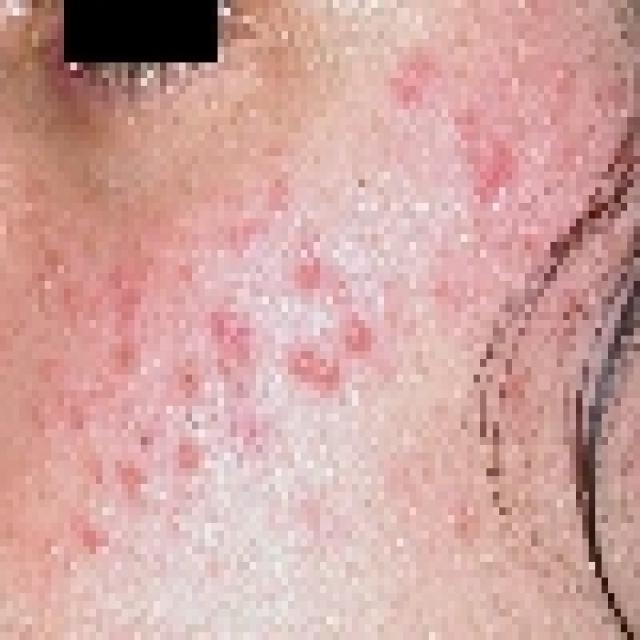lupus: (22, 152, 406, 582)
